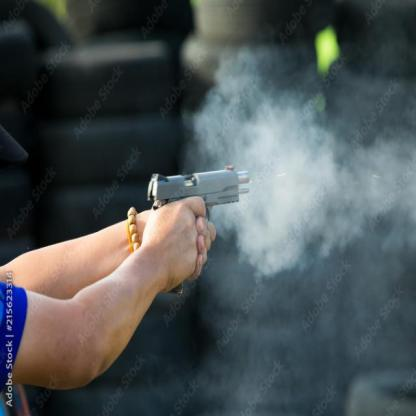handgun: (150, 167, 249, 296)
